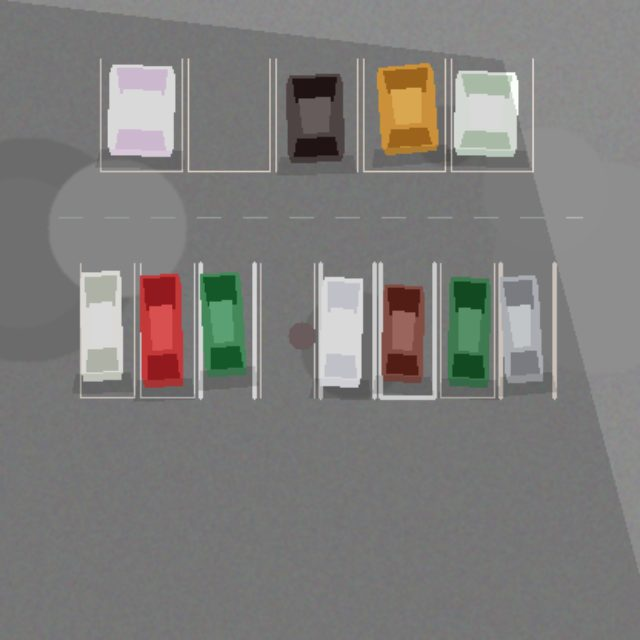space-empty: (188, 58, 269, 171), (260, 263, 314, 397)
space-occupied: (100, 58, 182, 171), (275, 58, 357, 171), (363, 58, 445, 171), (451, 58, 532, 171), (80, 263, 134, 397), (140, 263, 194, 397), (200, 263, 254, 397), (320, 263, 374, 397), (380, 263, 434, 397), (440, 263, 494, 397), (500, 263, 554, 397)
